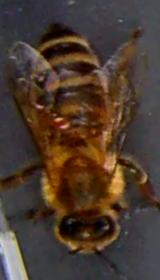varroa_mite: (44, 111, 74, 136)
